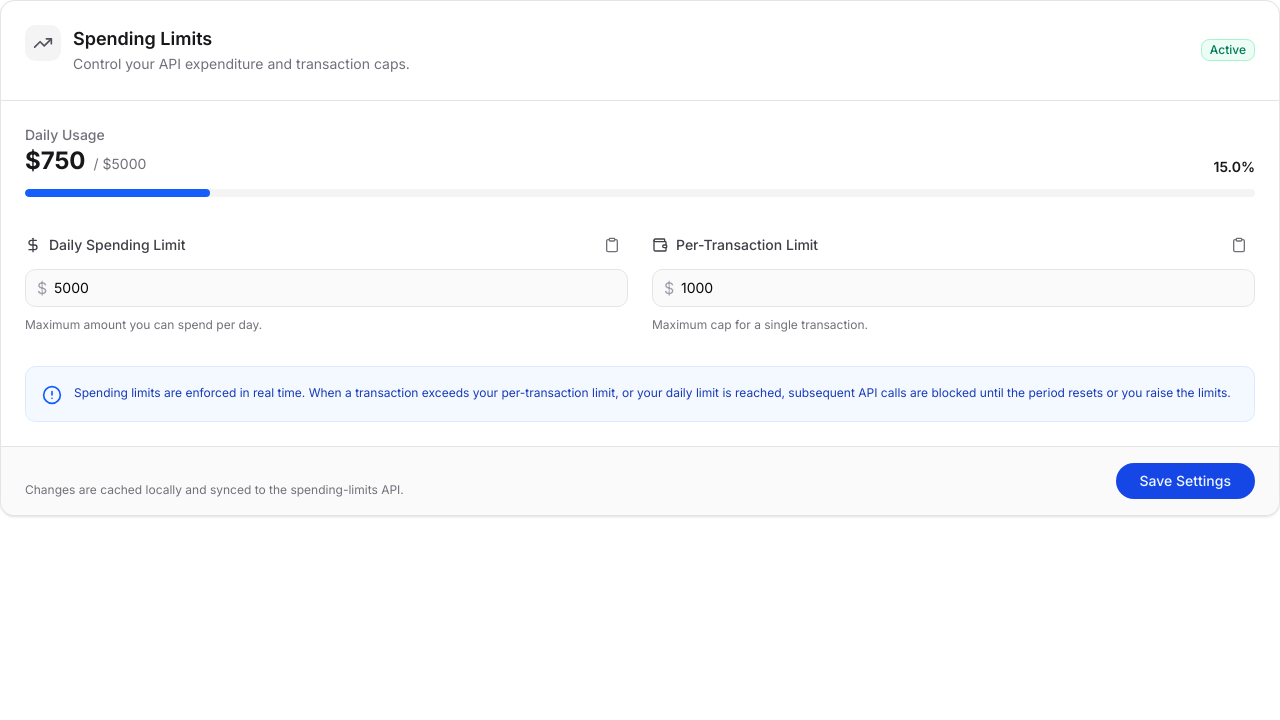
Scenario: SpendingLimitsCard › surfaces PUT failures without losing the cached values
Expected: the number field showing "5000" is shown, [25,269,628,307]
Click the button "Save Settings" at [1185, 481], box [1116,463,1255,499]
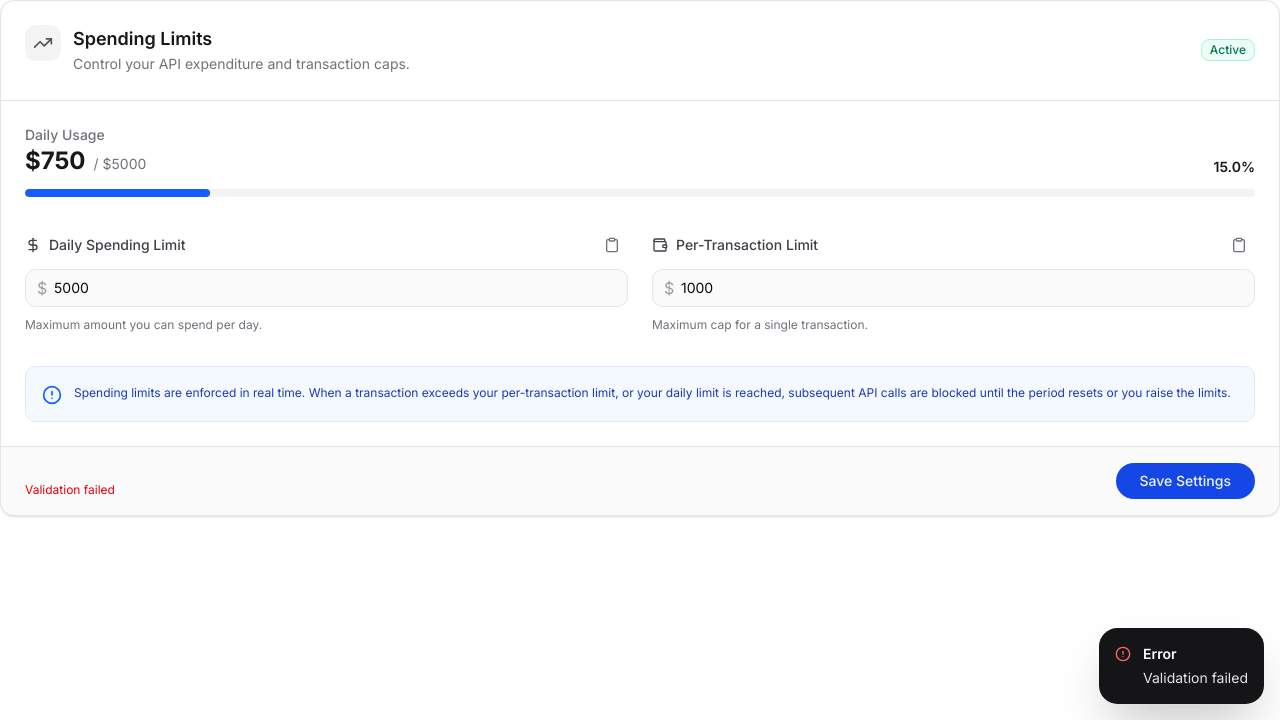
Expected: the message "Validation failed" is shown, [25,480,115,499]
